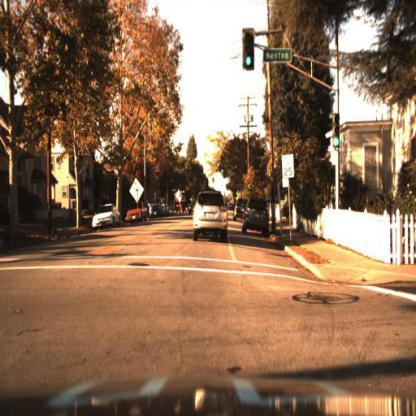car: (190, 184, 228, 233), (240, 194, 271, 236), (88, 196, 120, 232), (91, 200, 119, 232), (124, 202, 148, 225), (125, 200, 147, 221), (182, 192, 196, 223), (147, 195, 165, 219), (232, 198, 244, 222)
trafficLight-Green: (240, 24, 256, 74), (332, 112, 342, 148), (331, 131, 343, 151)
